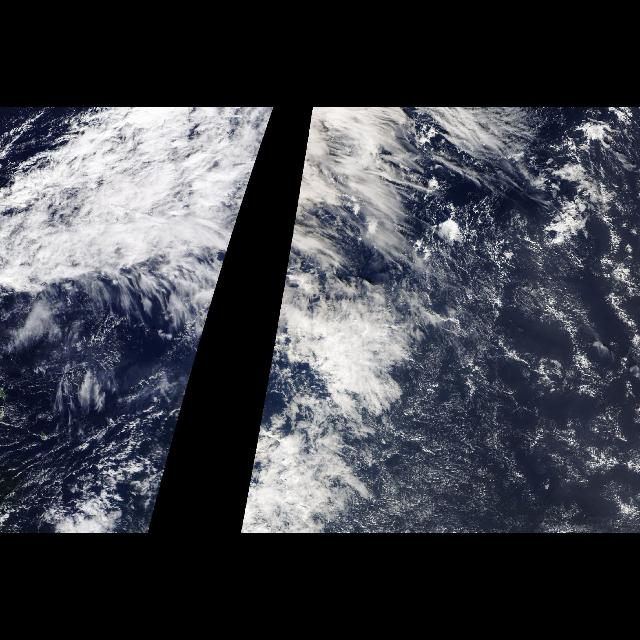Sugar: (361, 340, 575, 532)
